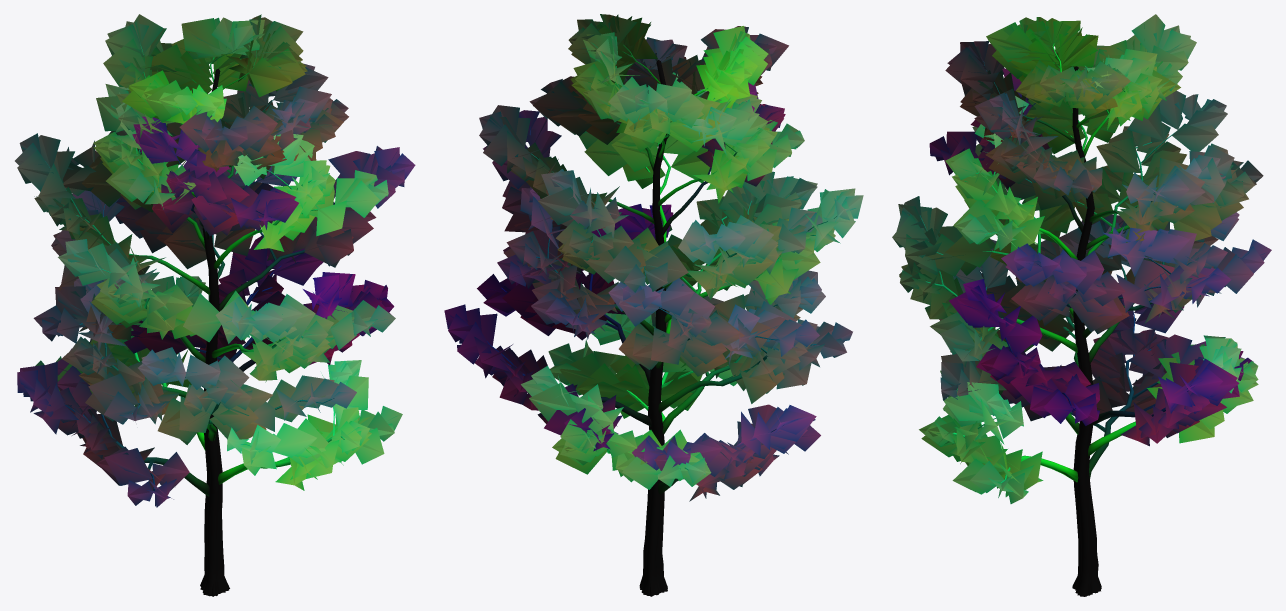
The model's file is SM_FLTree_05.FBX.
3 renders of one model, left to right at view 1: azimuth 30°, elevation 25°; view 2: azimuth 150°, elevation 25°; view 3: azimuth 270°, elevation 25°, orthographic.
Visible parts, largest first — view 1: SM_FLTree_05_LOD0; view 2: SM_FLTree_05_LOD0; view 3: SM_FLTree_05_LOD0.
Boxes of the visible parts, x1,y1,x2,y2 form: SM_FLTree_05_LOD0: (15, 14, 415, 596); SM_FLTree_05_LOD0: (444, 14, 863, 596); SM_FLTree_05_LOD0: (892, 14, 1271, 596).
Size of what is drawn, in the model's own units: 804 by 750 by 1210.
